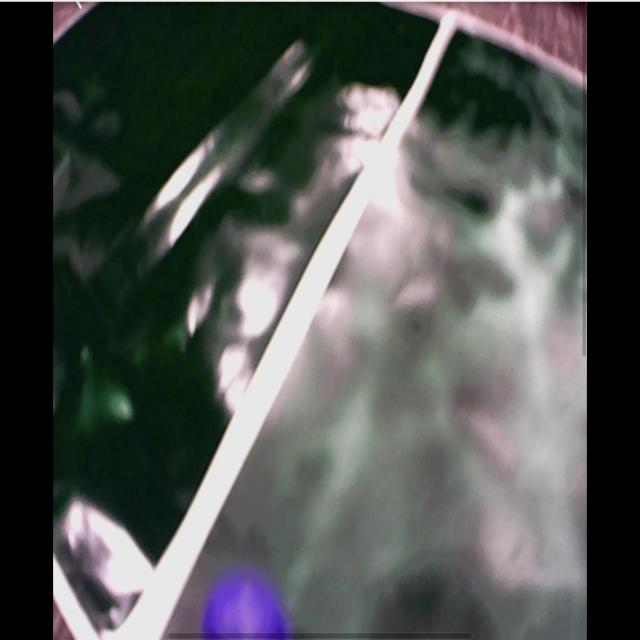ball: (202, 576, 287, 640)
